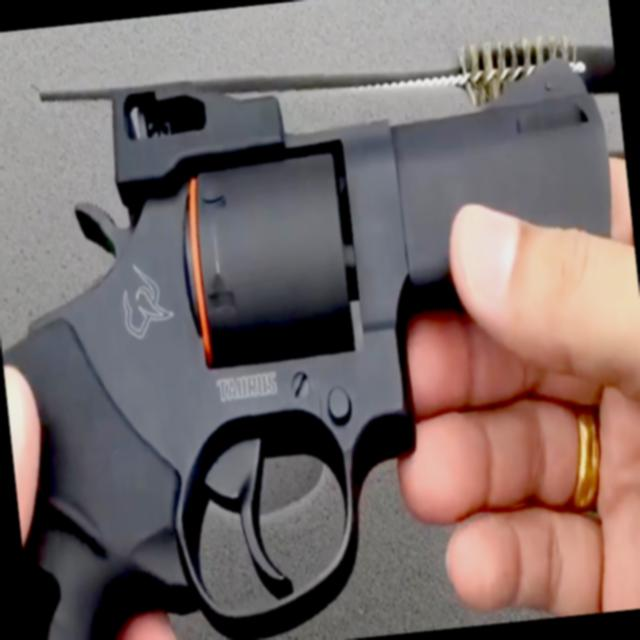revolver: (0, 12, 640, 640)
